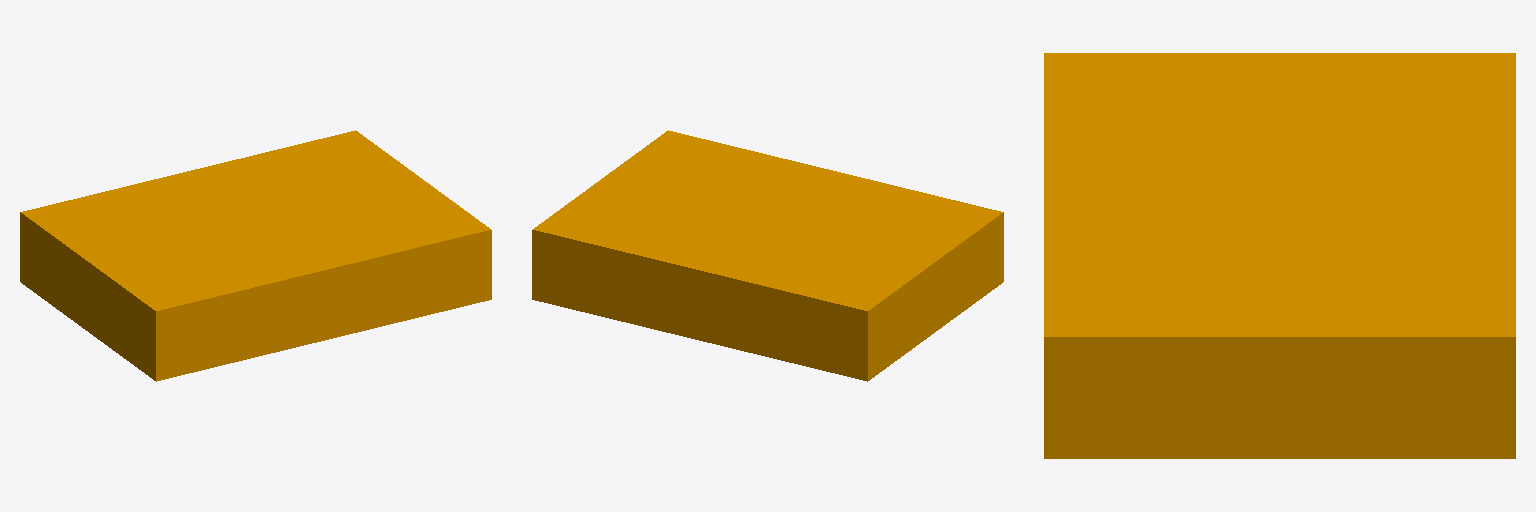
URDF robot description (hugr_primus):
<?xml version="1.0"?>
<robot name="hugr_primus">

  <link name="base_link">
    <inertial>
      <origin xyz="0 0 0" rpy="0 0 0"/>
      <mass value="30.0"/>
      <inertia
        ixx="0.53"
        ixy="0.01"
        ixz="-0.09"
        iyy="0.78"
        iyz="0.00"
        izz="0.88"/>
    </inertial>

    <visual>
      <origin xyz="0 0 0" rpy="0 0 0"/>
      <geometry>
        <box size="1.0 0.7 0.2"/>
      </geometry>
    </visual>

    <collision>
      <origin xyz="0 0 0" rpy="0 0 0"/>
      <geometry>
        <box size="1.0 0.7 0.2"/>
      </geometry>
    </collision>
  </link>

  <link name="imu_link"/>

  <joint name="xsens_joint" type="fixed">
    <parent link="base_link"/>
    <child link="imu_link"/>
    <origin xyz="0.12 0 -0.03" rpy="0 0 0"/>
  </joint>

  <link name="gnss_link"/>

  <joint name="gnss_joint" type="fixed">
    <parent link="imu_link"/>
    <child link="gnss_link"/>
    <origin xyz="-0.13 0 0.15" rpy="0 0 0"/> 
  </joint>

  <link name="camera_bow_link"/>

  <joint name="camera_bow_joint" type="fixed">
    <parent link="base_link"/>
    <child link="camera_bow_link"/>
    <origin xyz="0.115 0 0.19" rpy="0 0 0"/>
  </joint>

  <link name="camera_stern_link"/>

  <joint name="camera_stern_joint" type="fixed">
    <parent link="base_link"/>
    <child link="camera_stern_link"/>
    <origin xyz="-0.35 0 0.19" rpy="0 0 3.14159"/>
  </joint>

  <link name="thruster_port_surge_link"/>
  <joint name="thruster_port_surge_joint" type="fixed">
    <parent link="base_link"/>
    <child link="thruster_port_surge_link"/>
    <origin xyz="-0.18 0.15 -0.11" rpy="0 0 0"/>
  </joint>

  <link name="thruster_starboard_surge_link"/>
  <joint name="thruster_starboard_surge_joint" type="fixed">
    <parent link="base_link"/>
    <child link="thruster_starboard_surge_link"/>
    <origin xyz="-0.18 -0.15 -0.11" rpy="0 0 0"/>
  </joint>

  <link name="thruster_bow_sway_link"/>
  <joint name="thruster_bow_sway_joint" type="fixed">
    <parent link="base_link"/>
    <child link="thruster_bow_sway_link"/>
    <origin xyz="0.345 0.00 -0.07" rpy="0 0 1.5708"/>
  </joint>

  <link name="thruster_stern_sway_link"/>
  <joint name="thruster_stern_sway_joint" type="fixed">
    <parent link="base_link"/>
    <child link="thruster_stern_sway_link"/>
    <origin xyz="-0.35 0.00 -0.07" rpy="0 0 -1.5708"/>
  </joint>

</robot>

--- What the picture shows (computed from the rendered views, not written in the file) ---
The picture shows the robot from 3 angles, left to right: view 1: azimuth 30°, elevation 25°; view 2: azimuth 150°, elevation 25°; view 3: azimuth 270°, elevation 25°; orthographic projection.
Model hugr_primus with 9 links and 8 joints (8 fixed), rooted at base_link, posed every joint at zero.
Visible links, largest first — view 1: base_link; view 2: base_link; view 3: base_link.
Boxes of the visible links, <box> form: base_link: <box>20,130,491,381</box>; base_link: <box>532,130,1003,381</box>; base_link: <box>1044,53,1515,458</box>.
Size in the robot's own frame: 1 by 0.7 by 0.2 metres.
Geometry: primitives only (box / cylinder / sphere), no mesh files.
